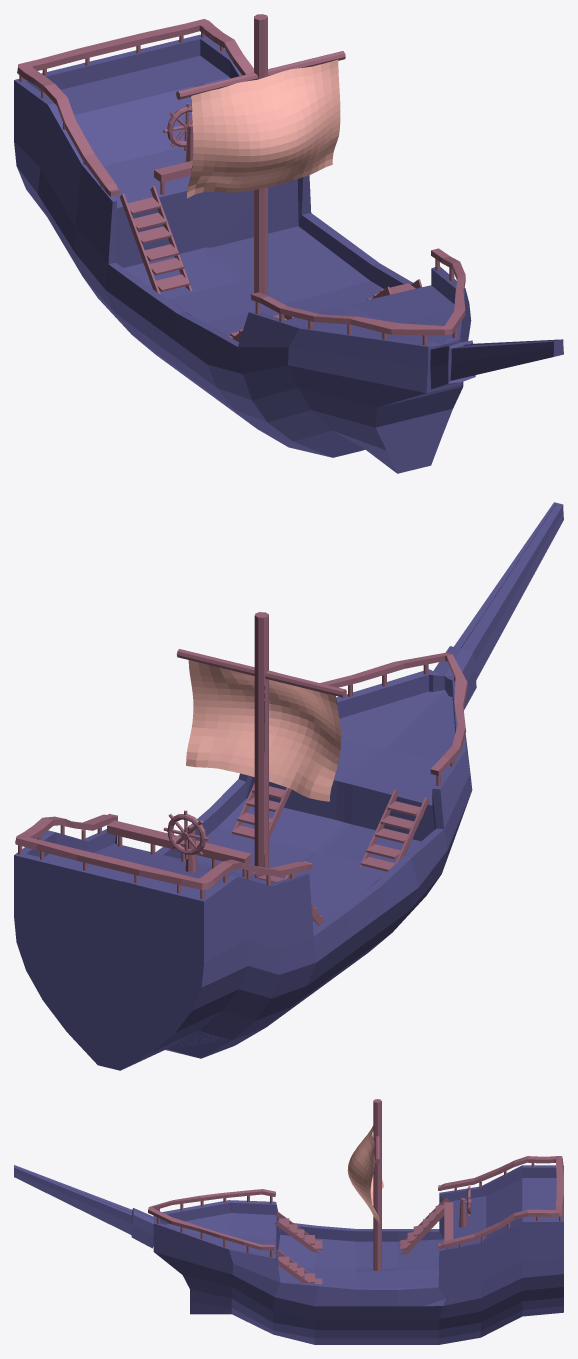
The model's file is ship uv.glb.
3 renders of one model, top to bottom at view 1: azimuth 30°, elevation 25°; view 2: azimuth 150°, elevation 25°; view 3: azimuth 270°, elevation 25°, orthographic. The views are drawn at different scales.
Visible parts, largest first — view 1: sHIP; view 2: sHIP; view 3: sHIP.
Part boxes in pixels (x1,y1,x2,y2): sHIP: (14, 14, 563, 473); sHIP: (14, 502, 563, 1070); sHIP: (14, 1099, 563, 1344).
Size of what is drawn, in the model's own units: 22.04 by 38.79 by 81.65.
Materials: 3 (3 with a texture image).
